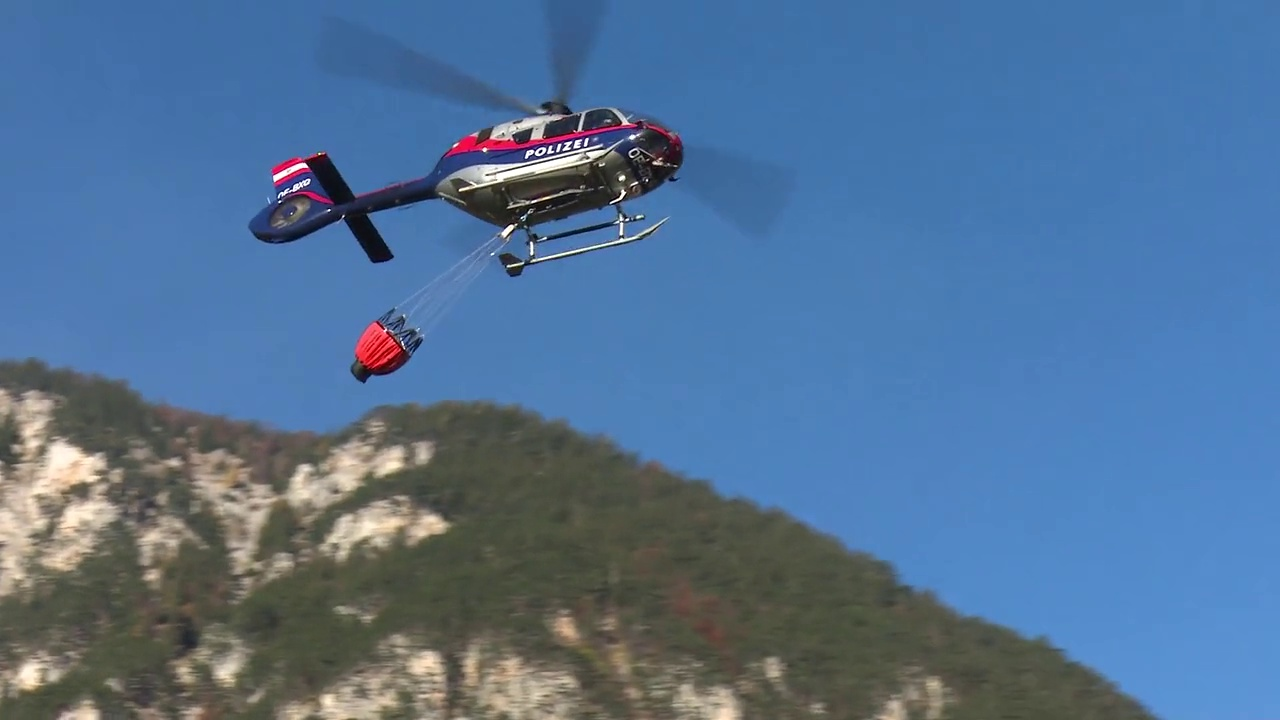heli: (246, 0, 774, 278)
